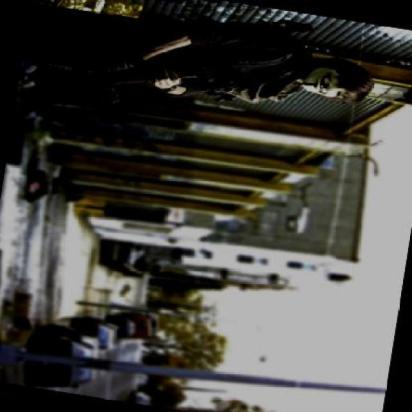Gun: (46, 28, 219, 127)
